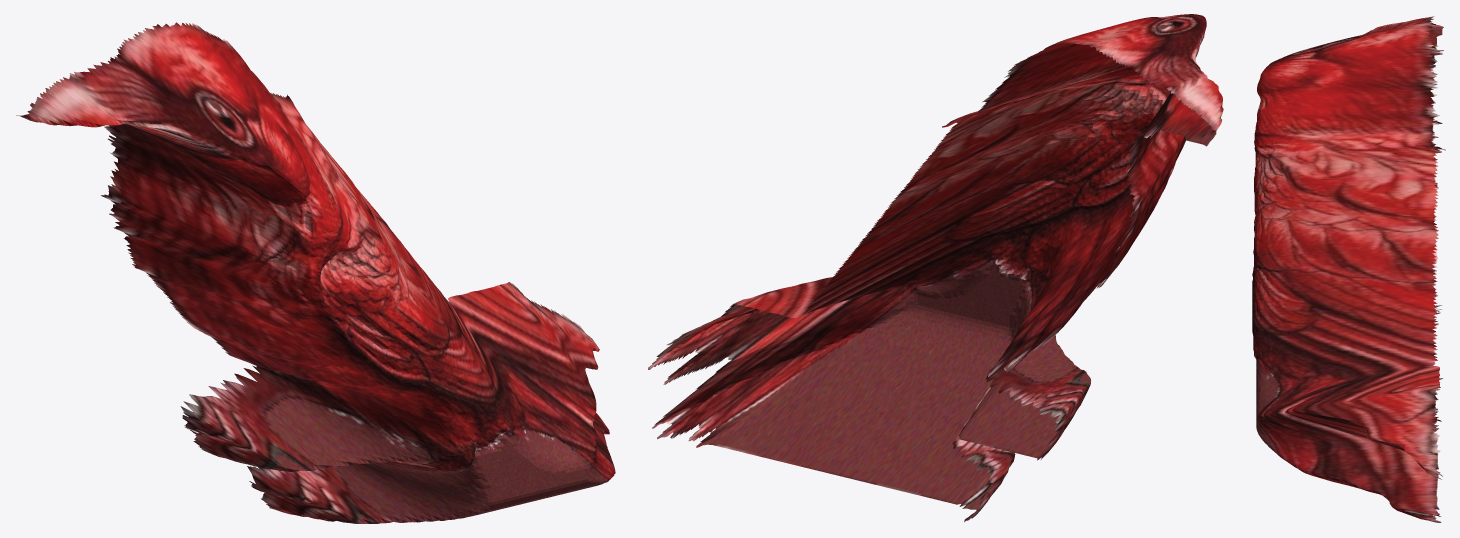
Rendered from torso.obj.
The picture shows the model from 3 angles, left to right: view 1: azimuth 30°, elevation 25°; view 2: azimuth 150°, elevation 25°; view 3: azimuth 270°, elevation 25°; orthographic projection. The views are drawn at different scales.
Parts seen in each view (by area): view 1: torso; view 2: torso; view 3: torso.
Boxes of the visible parts, x1=… form: torso: x1=16, y1=22, x2=615, y2=523; torso: x1=648, y1=14, x2=1223, y2=521; torso: x1=1252, y1=16, x2=1445, y2=522.
Size of the model in its own units: 1.59 by 1.36 by 0.6668.
Materials: 1 (1 with a texture image).
